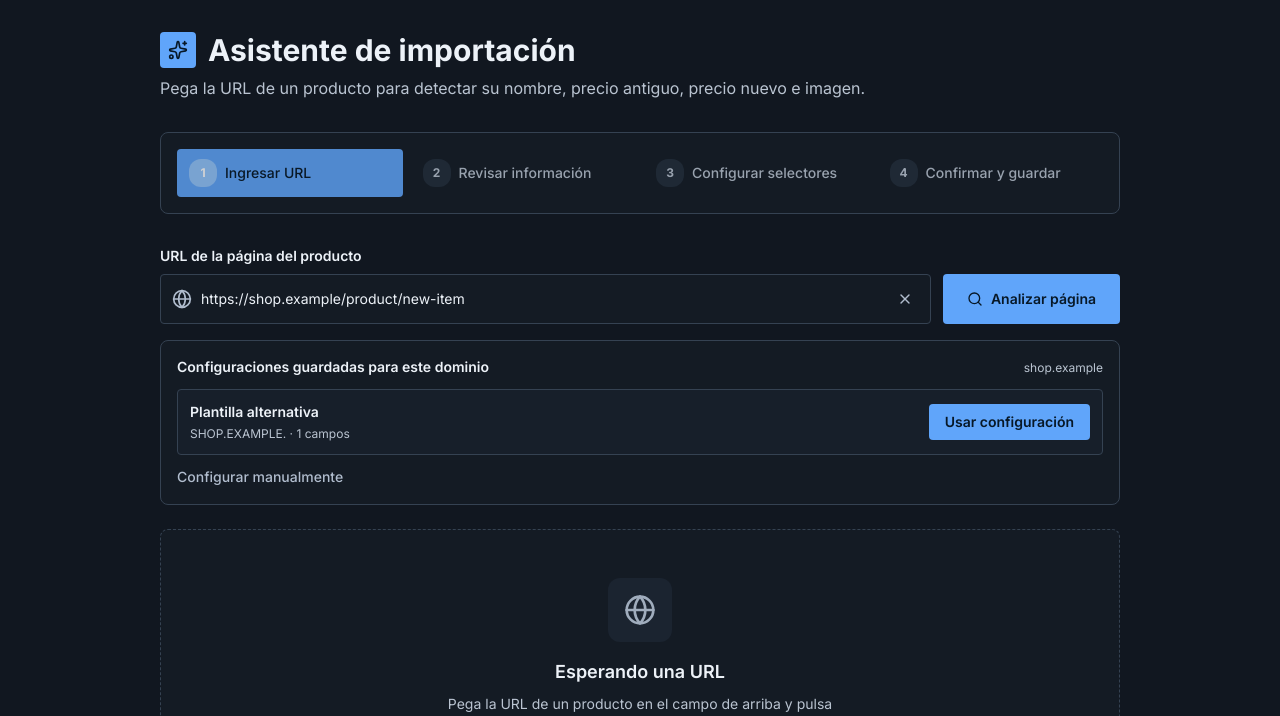
it: Builder saved configuration suggestions › marks unmatched selectors for review without saving a product automatically
What coordinates should you click on to do the following:
click the button "Usar configuración"
I would click on:
 (1009, 422)
Its box is [929,404,1090,440].
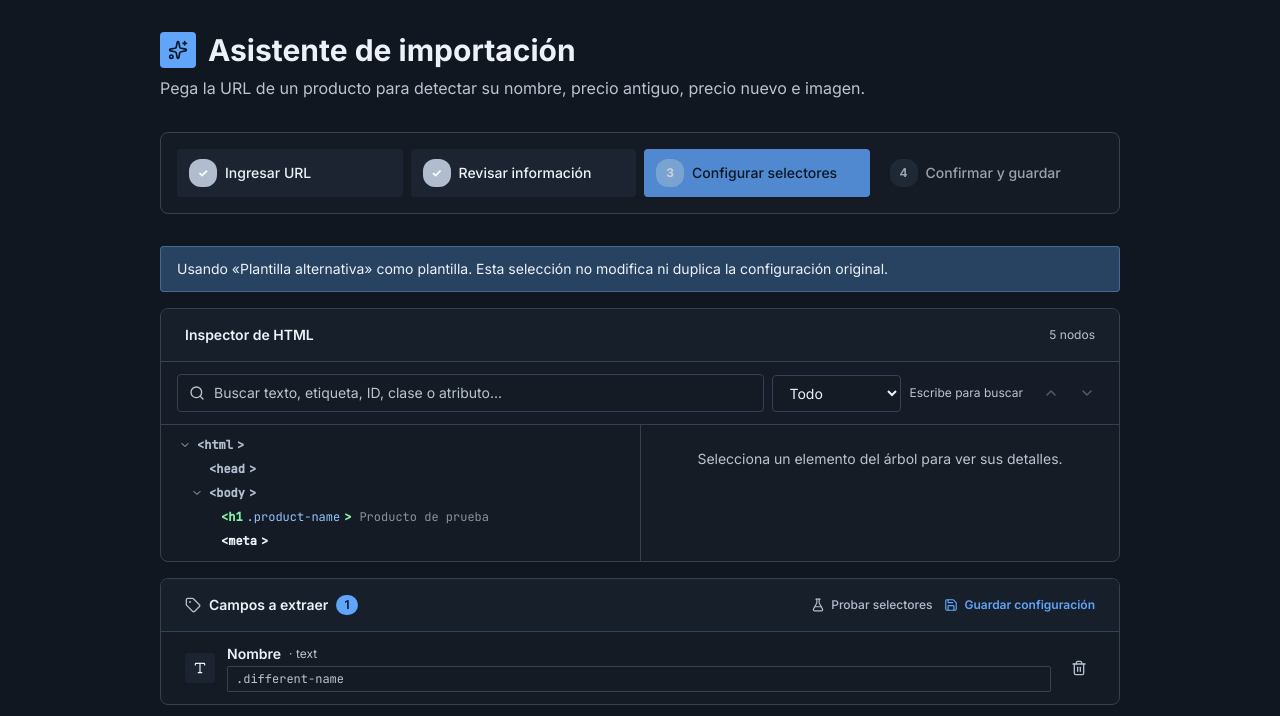
Now the field named "Selector CSS de Nombre" holds ".different-name", box [227,666,1051,692]
